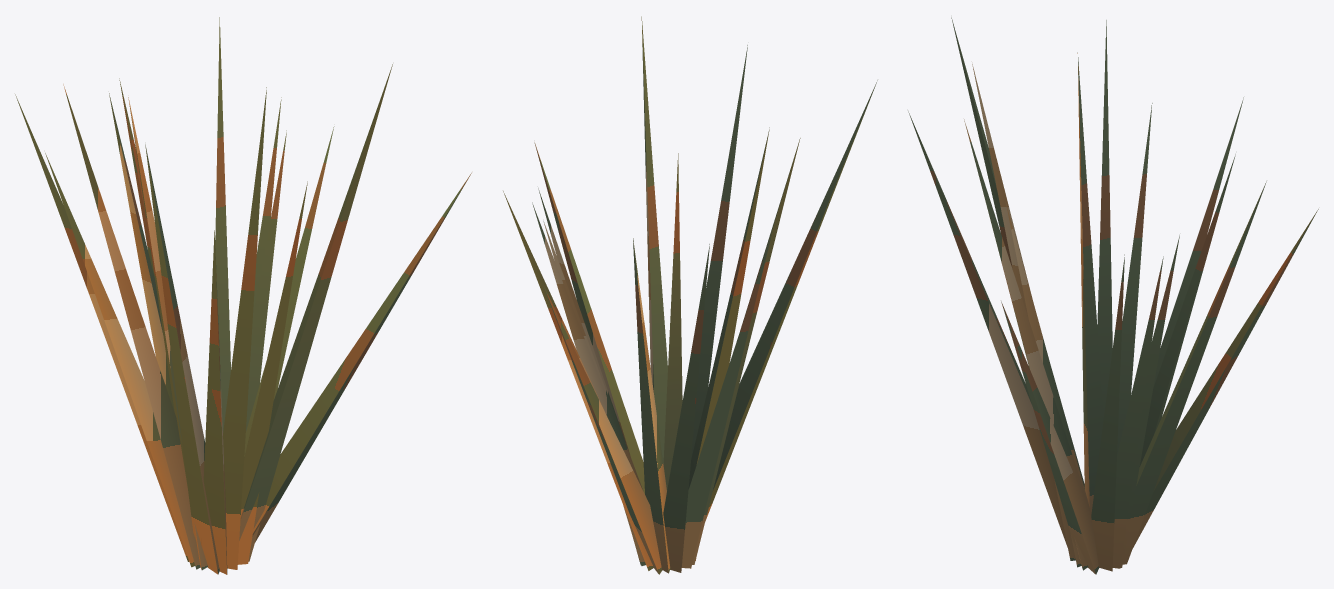
The model's file is wland.grass__tall.glb.
The picture shows the model from 3 angles, left to right: view 1: azimuth 30°, elevation 25°; view 2: azimuth 150°, elevation 25°; view 3: azimuth 270°, elevation 25°; orthographic projection. The views are drawn at different scales.
Parts seen in each view (by area): view 1: kit_blades; view 2: kit_blades; view 3: kit_blades.
Boxes of the visible parts, x1=… form: kit_blades: x1=15, y1=17, x2=471, y2=574; kit_blades: x1=503, y1=16, x2=877, y2=574; kit_blades: x1=908, y1=17, x2=1318, y2=574.
Size of the model in its own units: 0.5635 by 0.8082 by 0.6118.
Materials: 1 (1 with a texture image).
